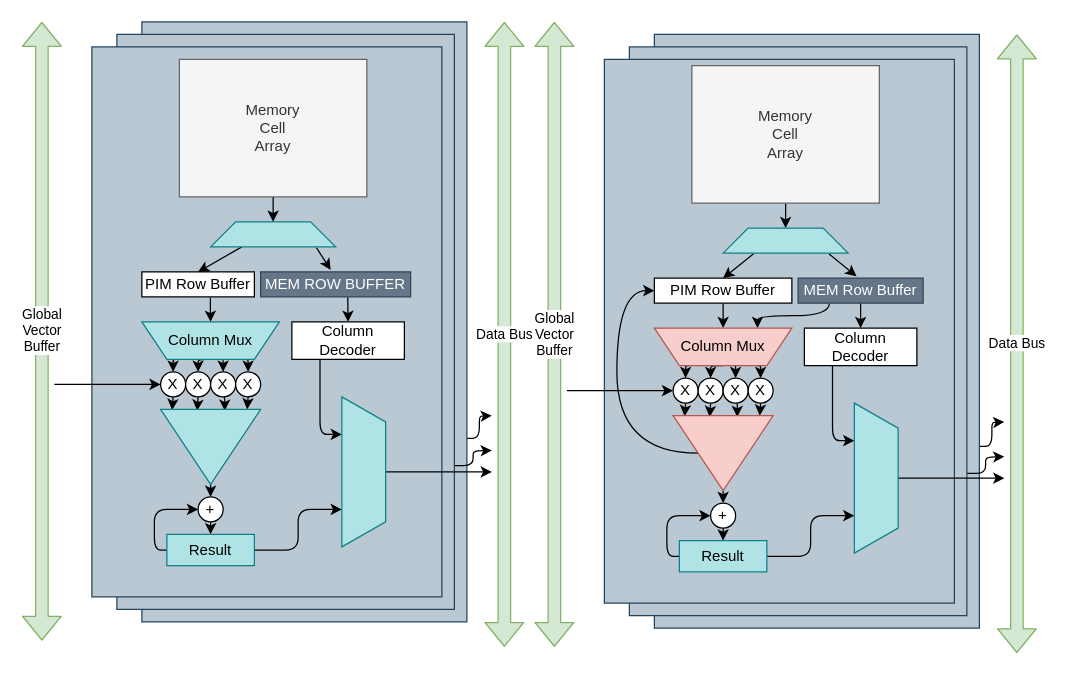
Image size: 1066x675. Some labels were removed from this diagram. The centre of each missing label's shape, as x and y in pixels:
"Add Tree" goes at point 210,446.
"Modified Add Tree" goes at point 722,452.
